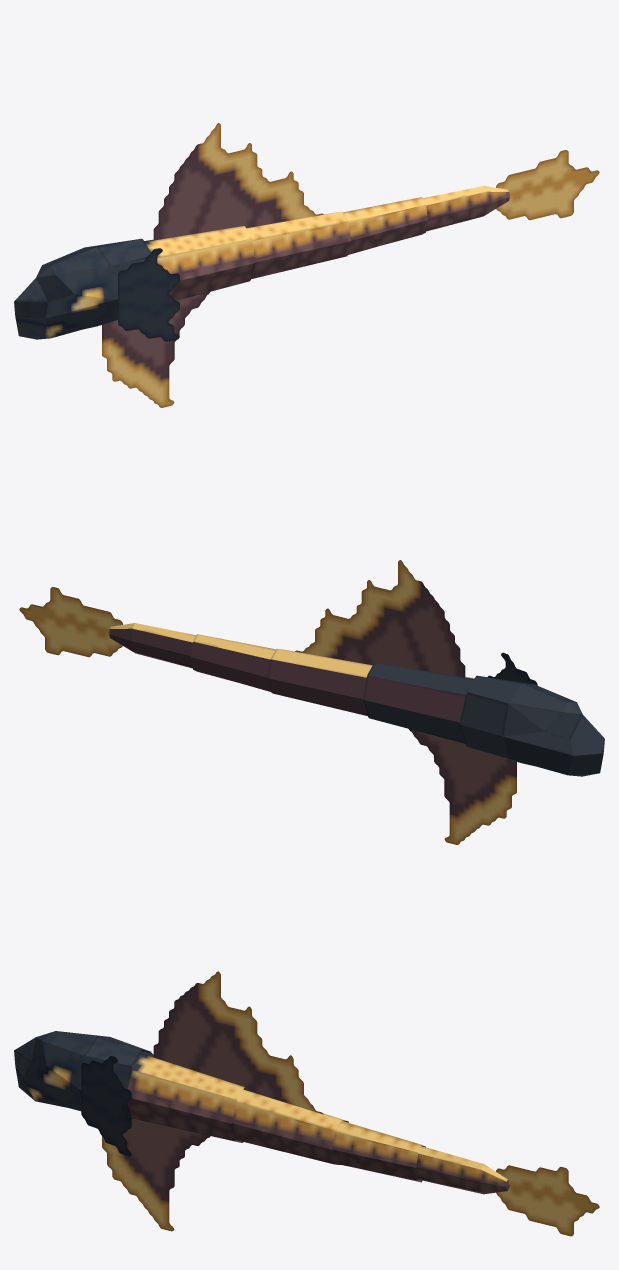
File: electric fish (1).obj
The picture shows the model from 3 angles, top to bottom: view 1: azimuth 30°, elevation 25°; view 2: azimuth 150°, elevation 25°; view 3: azimuth 330°, elevation 25°; orthographic projection.
Visible parts, largest first — view 1: pPlane1, pCube8, pCube9, pCube5, pPlane3, pPlane2, pPlane4, pCube6, pCube11; view 2: pCube8, pPlane1, pPlane3, pCube9, pCube5, pPlane2, pCube6, pCube11, pPlane4; view 3: pPlane1, pCube9, pCube8, pPlane3, pCube5, pPlane2, pCube6, pPlane4, pCube11.
Part boxes in pixels (<box>): pPlane1: <box>153,123,323,240</box>; pCube8: <box>14,238,150,339</box>; pCube9: <box>144,226,255,300</box>; pCube5: <box>246,211,350,278</box>; pPlane3: <box>102,291,210,407</box>; pPlane2: <box>496,150,599,220</box>; pPlane4: <box>118,248,179,341</box>; pCube6: <box>343,197,427,254</box>; pCube11: <box>423,186,509,231</box>; pCube8: <box>459,675,604,776</box>; pPlane1: <box>295,560,465,677</box>; pPlane3: <box>408,728,516,844</box>; pCube9: <box>363,663,474,743</box>; pCube5: <box>268,648,372,715</box>; pPlane2: <box>19,587,122,657</box>; pCube6: <box>191,634,275,691</box>; pCube11: <box>109,623,195,668</box>; pPlane4: <box>487,652,537,685</box>; pPlane1: <box>153,971,323,1114</box>; pCube9: <box>127,1051,244,1142</box>; pCube8: <box>14,1031,152,1122</box>; pPlane3: <box>102,1118,210,1231</box>; pCube5: <box>232,1089,348,1164</box>; pPlane2: <box>496,1165,599,1236</box>; pCube6: <box>332,1121,425,1182</box>; pPlane4: <box>81,1056,131,1156</box>; pCube11: <box>416,1146,509,1194</box>.
Size of the model in its own units: 7.1 by 3.87 by 0.9062.
Materials: 1 (1 with a texture image).
